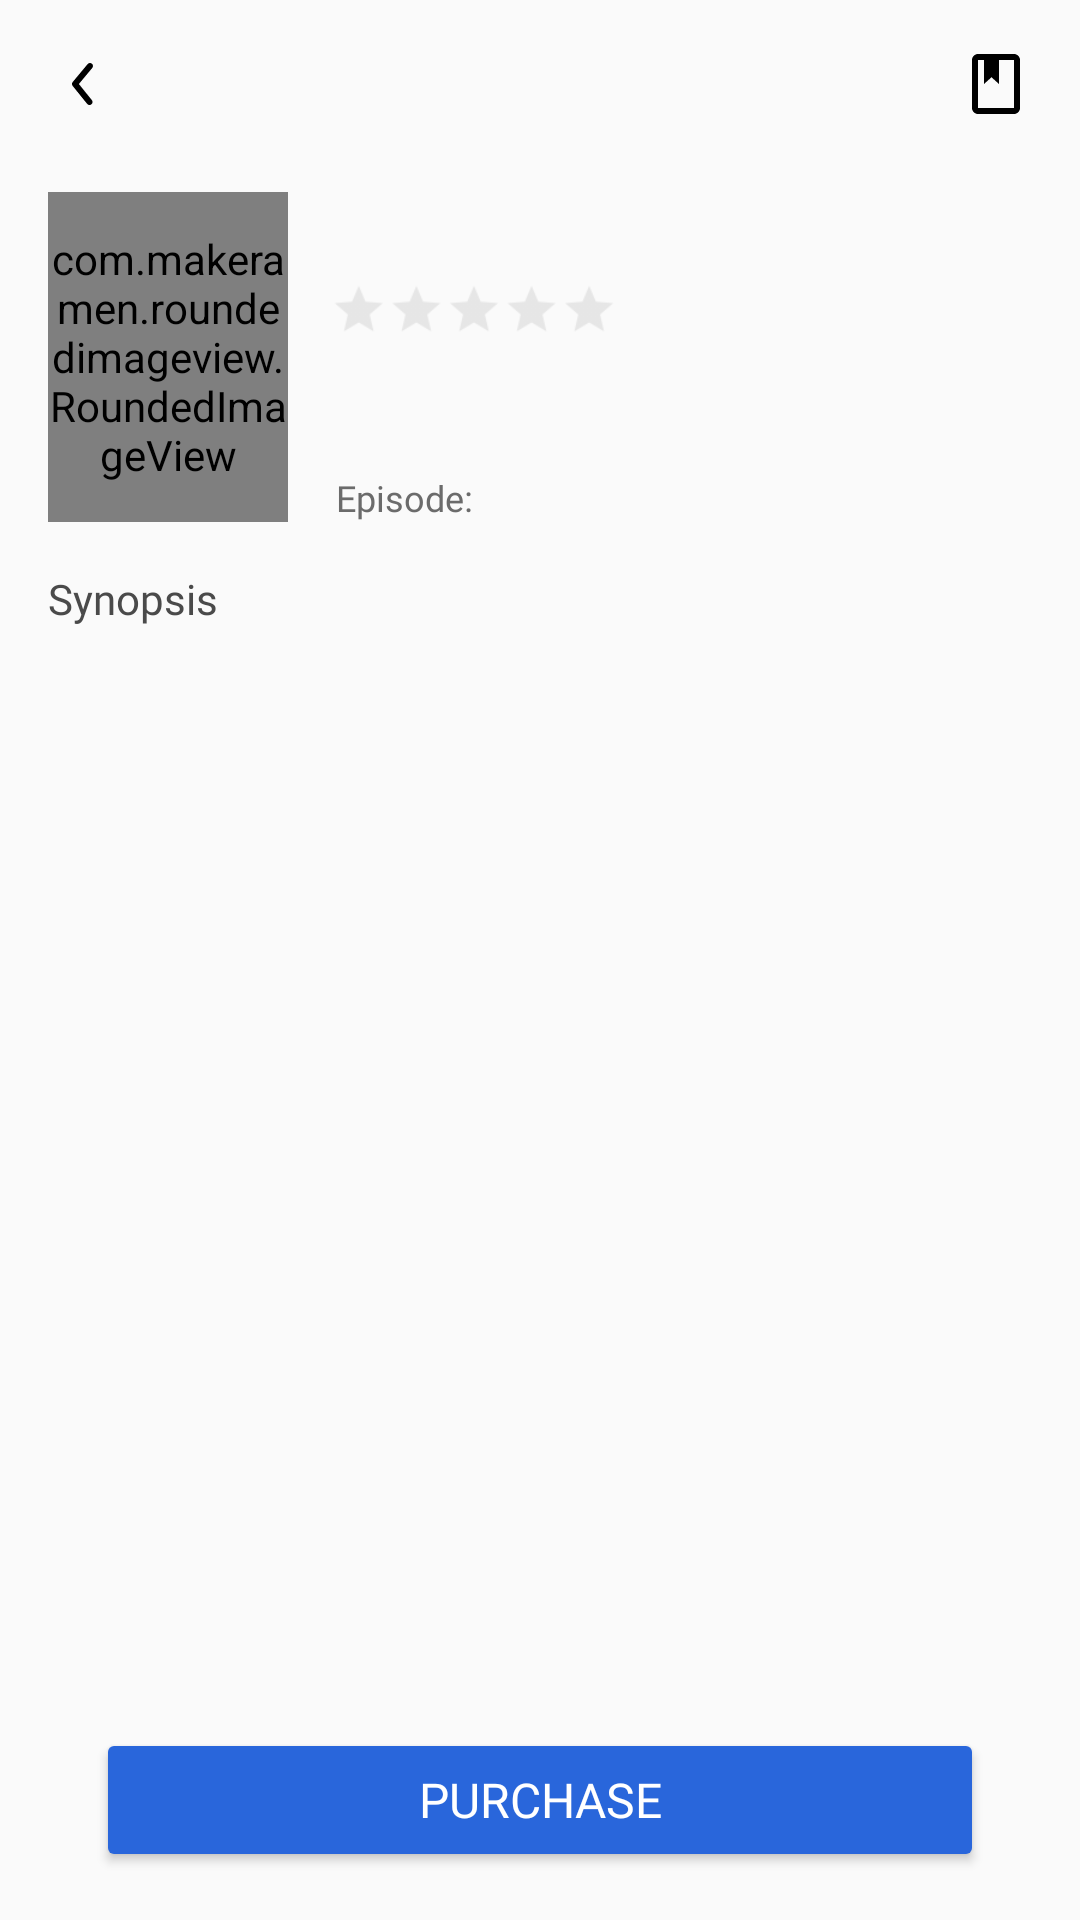

Screen size 1080*1920. Icon name, then its box in pixels as (x1, y1, x2, y2):
Icon back: (72, 63, 93, 105)
icon bookmark: (972, 54, 1020, 114)
